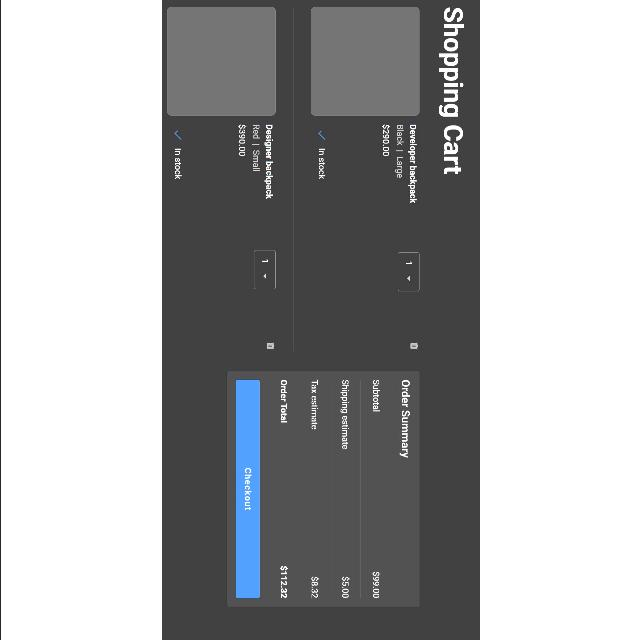QLabel: (436, 7, 464, 175), (398, 379, 409, 458), (262, 125, 272, 199), (338, 380, 348, 450), (407, 124, 415, 203), (308, 378, 318, 429), (394, 124, 402, 178), (251, 124, 259, 172), (278, 379, 286, 423), (243, 467, 251, 511), (278, 566, 288, 598), (371, 378, 379, 412), (370, 572, 380, 598), (173, 148, 181, 180), (238, 123, 246, 155), (381, 124, 389, 156), (308, 576, 318, 598), (339, 576, 348, 598), (318, 148, 324, 180)
VBtn: (234, 380, 260, 598)
VCard: (225, 370, 420, 610)
VCombobox: (396, 252, 419, 292), (252, 250, 274, 290)
VDivider: (291, 6, 293, 352), (359, 380, 361, 598), (328, 380, 330, 598), (297, 380, 299, 598)
VIcon: (408, 342, 418, 350), (173, 130, 181, 140), (265, 342, 273, 350), (318, 130, 324, 140)
VImg: (308, 5, 419, 116), (165, 6, 275, 116)
